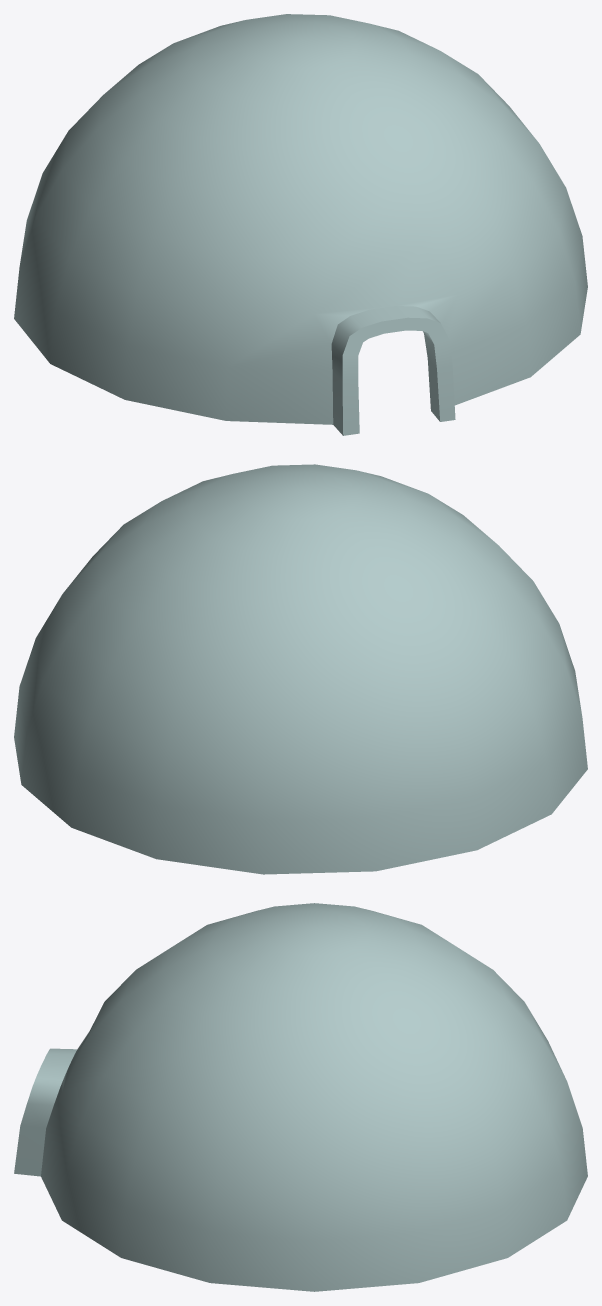
File: Igloo.glb
3 views of the same model, one above another, from view 1: azimuth 30°, elevation 25°; view 2: azimuth 150°, elevation 25°; view 3: azimuth 270°, elevation 25° (orthographic). The views are drawn at different scales.
Parts seen in each view (by area): view 1: SM_Igloo:SM_Igloo1; view 2: SM_Igloo:SM_Igloo1; view 3: SM_Igloo:SM_Igloo1.
Boxes of the visible parts, box(x1,y1,x2,y2) form: SM_Igloo:SM_Igloo1: box(14, 14, 587, 435); SM_Igloo:SM_Igloo1: box(14, 464, 587, 874); SM_Igloo:SM_Igloo1: box(14, 903, 587, 1291).
Bounding box in the file's own units: 2.73 × 1.36 × 2.86.
